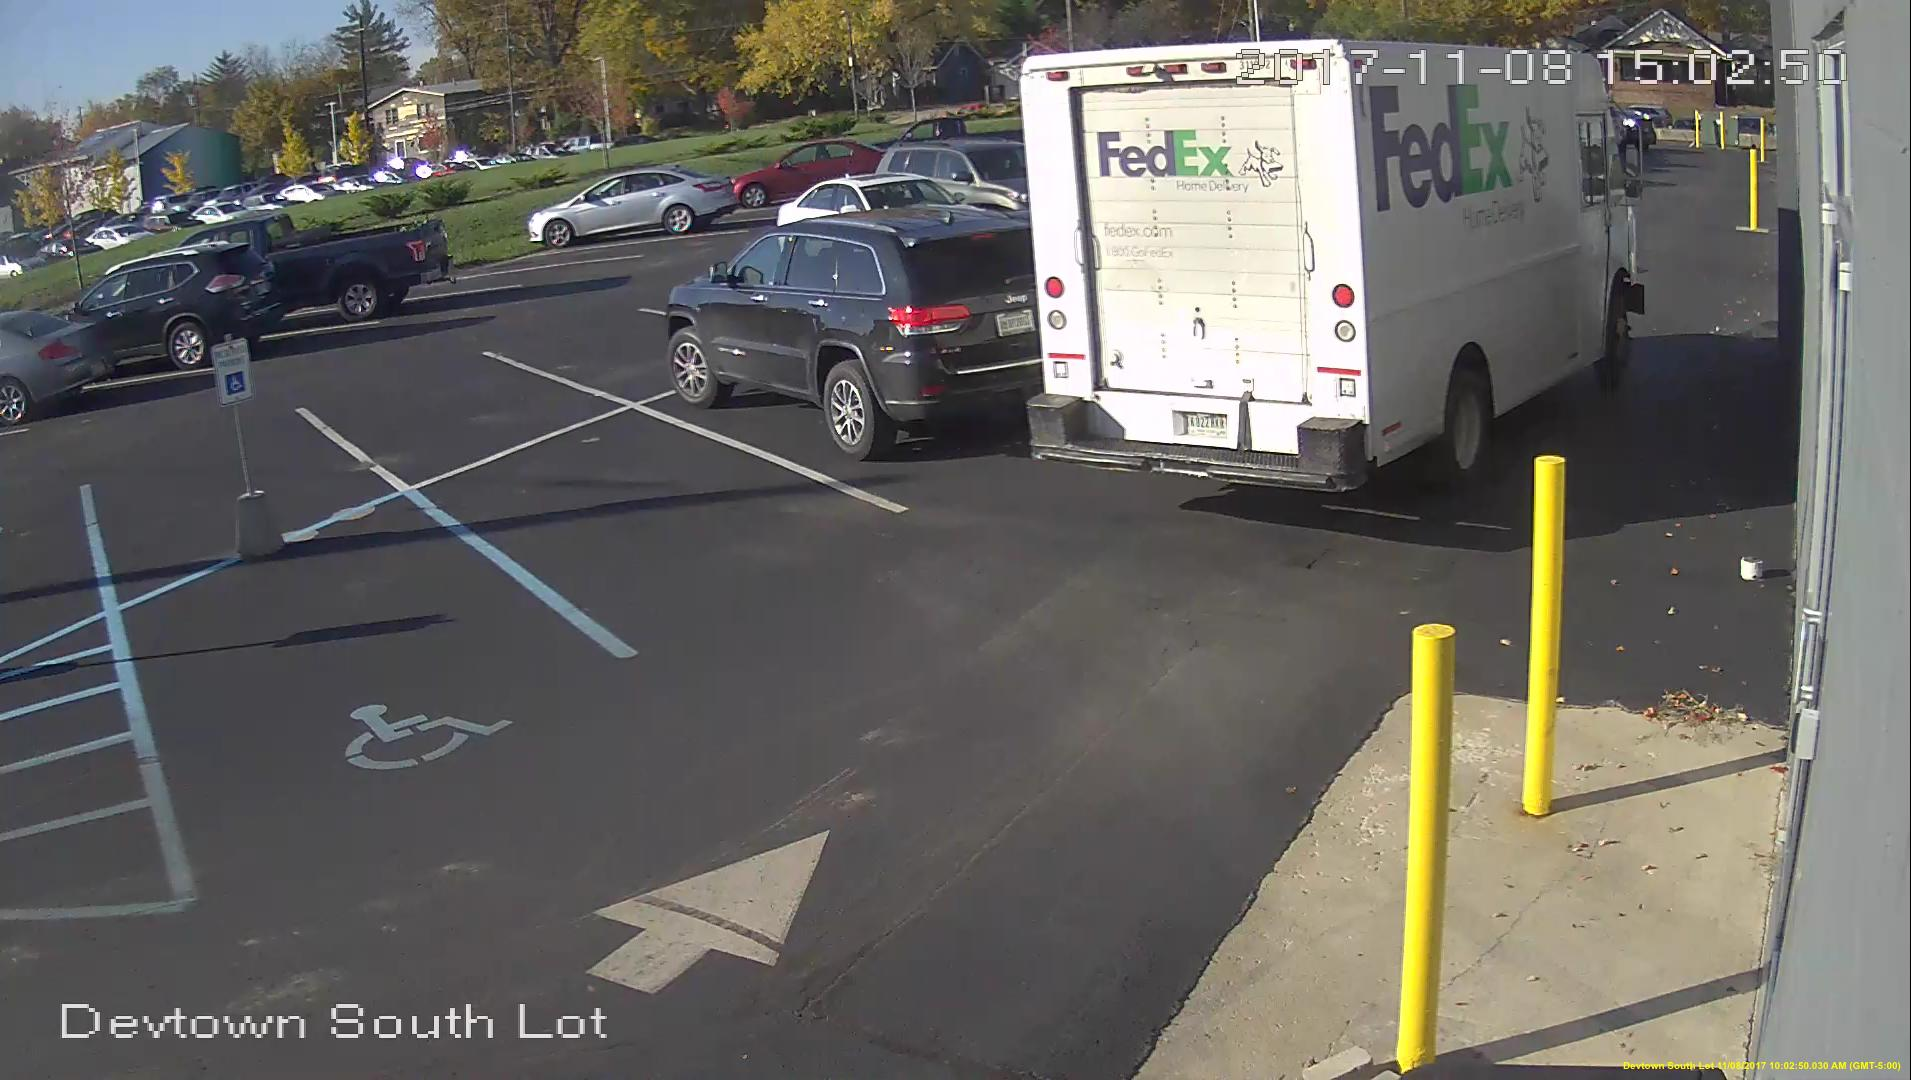fedex_truck: (1022, 31, 1642, 500)
